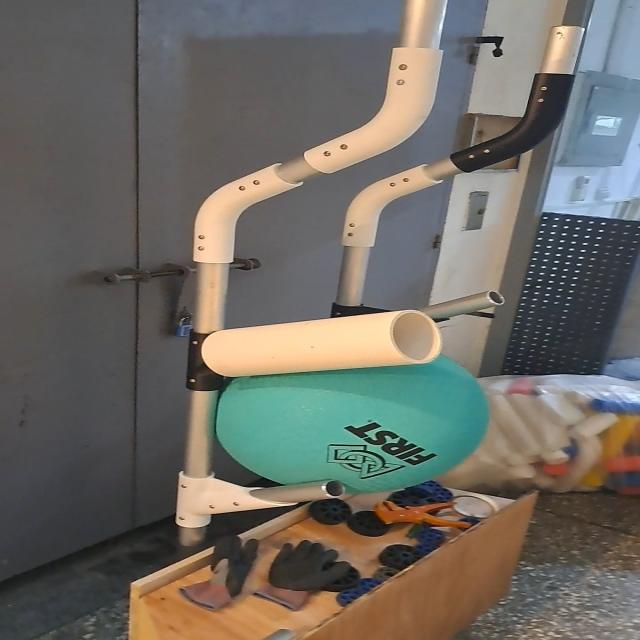ALGAE: (211, 346, 492, 499)
CORAL: (194, 306, 443, 379)
